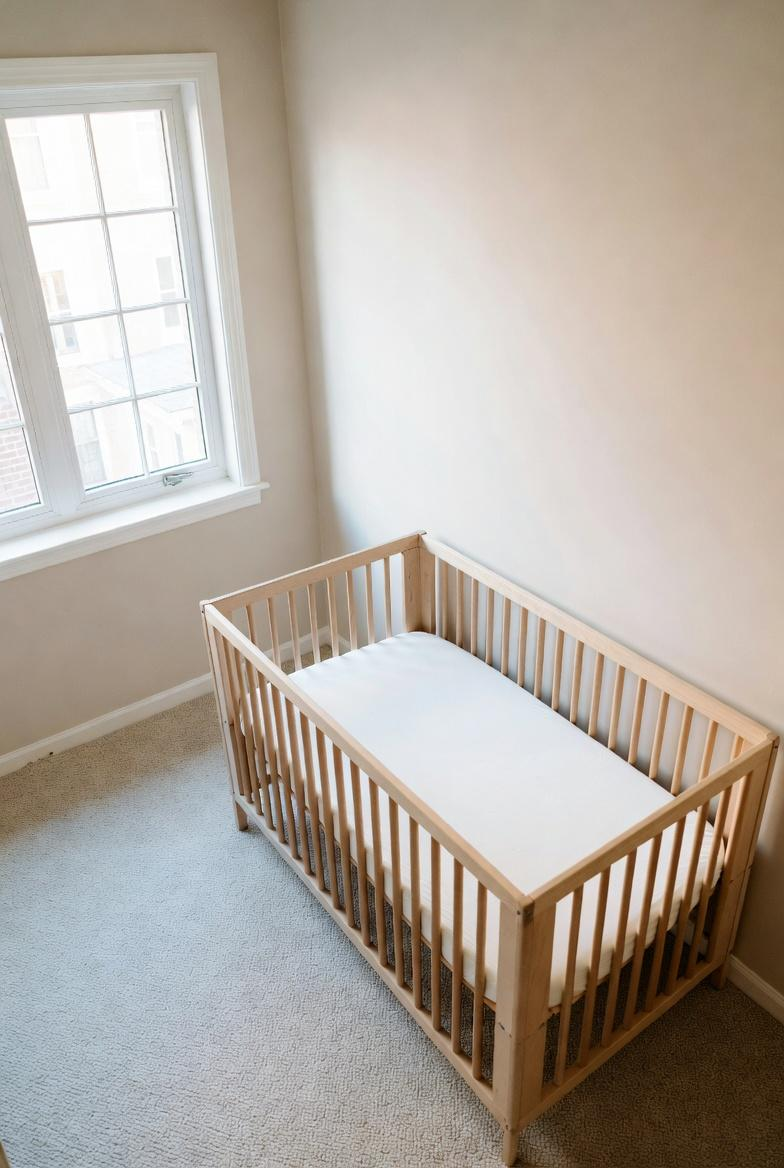crib: (195, 512, 782, 1168)
